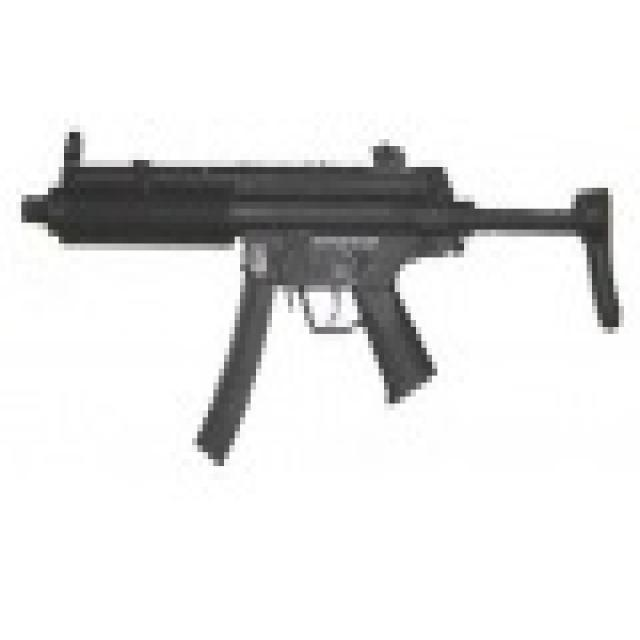Gun: (21, 97, 640, 473)
